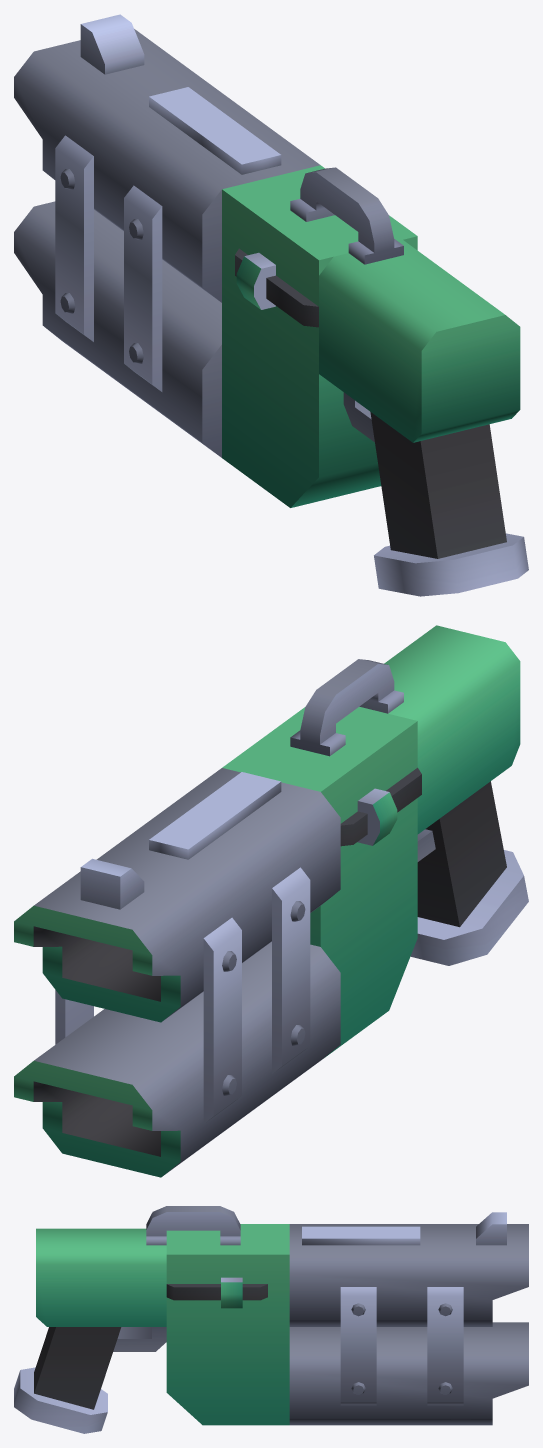
File: blaster-q.glb
3 views of the same model, one above another, from view 1: azimuth 30°, elevation 25°; view 2: azimuth 150°, elevation 25°; view 3: azimuth 270°, elevation 25° (orthographic). The views are drawn at different scales.
Visible parts, largest first — view 1: blaster-q; view 2: blaster-q; view 3: blaster-q.
Boxes of the visible parts, x1=… form: blaster-q: x1=14, y1=14, x2=528, y2=596; blaster-q: x1=14, y1=625, x2=528, y2=1177; blaster-q: x1=14, y1=1206, x2=528, y2=1433.
Bounding box in the file's own units: 0.17 × 0.3238 × 0.7104.
Materials: 1 (1 with a texture image).
